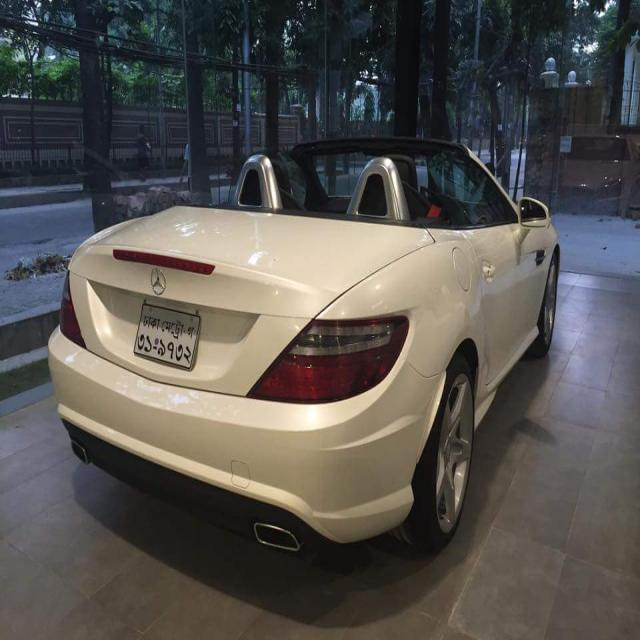numberplate: (132, 300, 200, 370)
